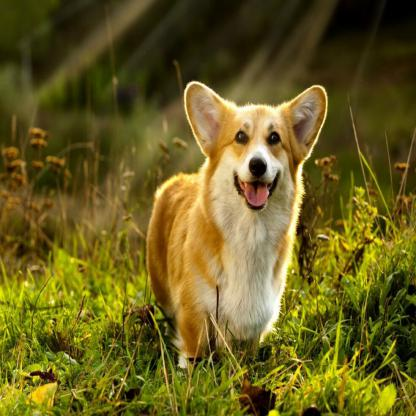Korgi: (148, 79, 328, 362)
